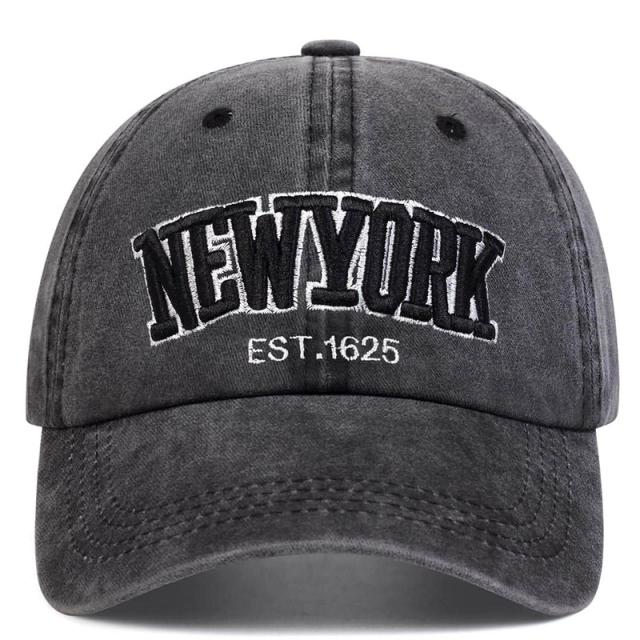no_helmet: (20, 24, 629, 630)
